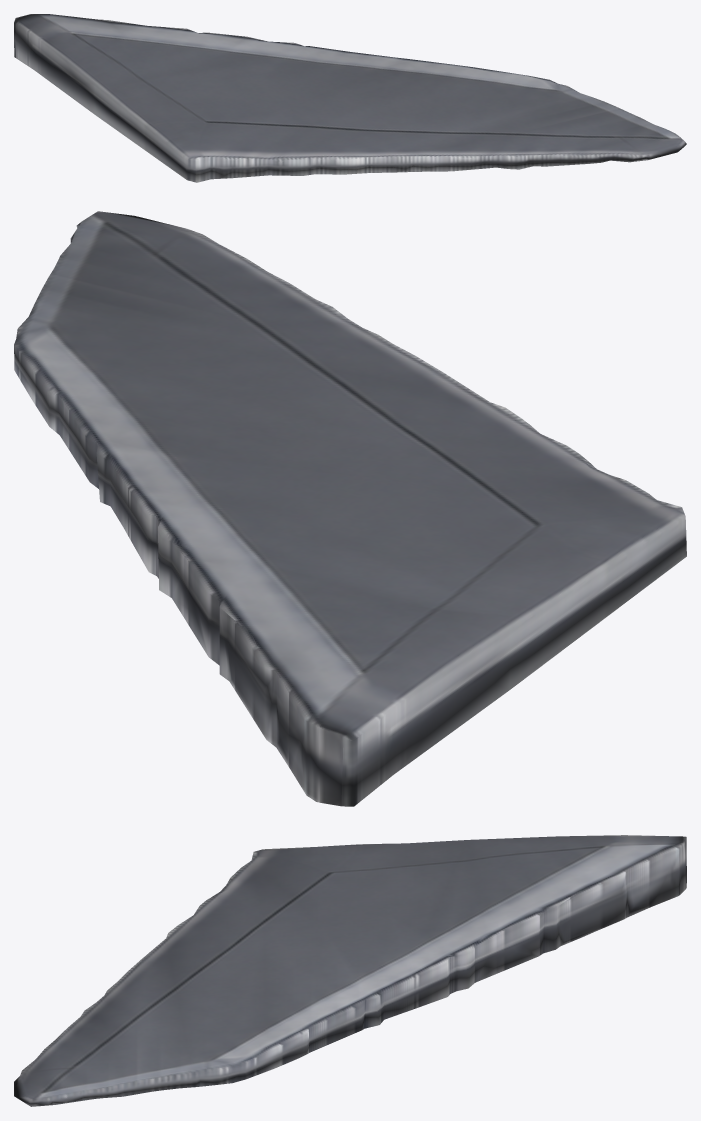
The model's file is canard.glb.
The picture shows the model from 3 angles, top to bottom: view 1: azimuth 30°, elevation 25°; view 2: azimuth 150°, elevation 25°; view 3: azimuth 270°, elevation 25°; orthographic projection. The views are drawn at different scales.
Parts seen in each view (by area): view 1: canard; view 2: canard; view 3: canard.
Boxes of the visible parts, bbox=[...] form: canard: bbox=[14, 14, 686, 182]; canard: bbox=[14, 211, 686, 806]; canard: bbox=[14, 835, 686, 1106].
Size of the model in its own units: 0.6713 by 0.068 by 0.795.
Materials: 1 (1 with a texture image).
